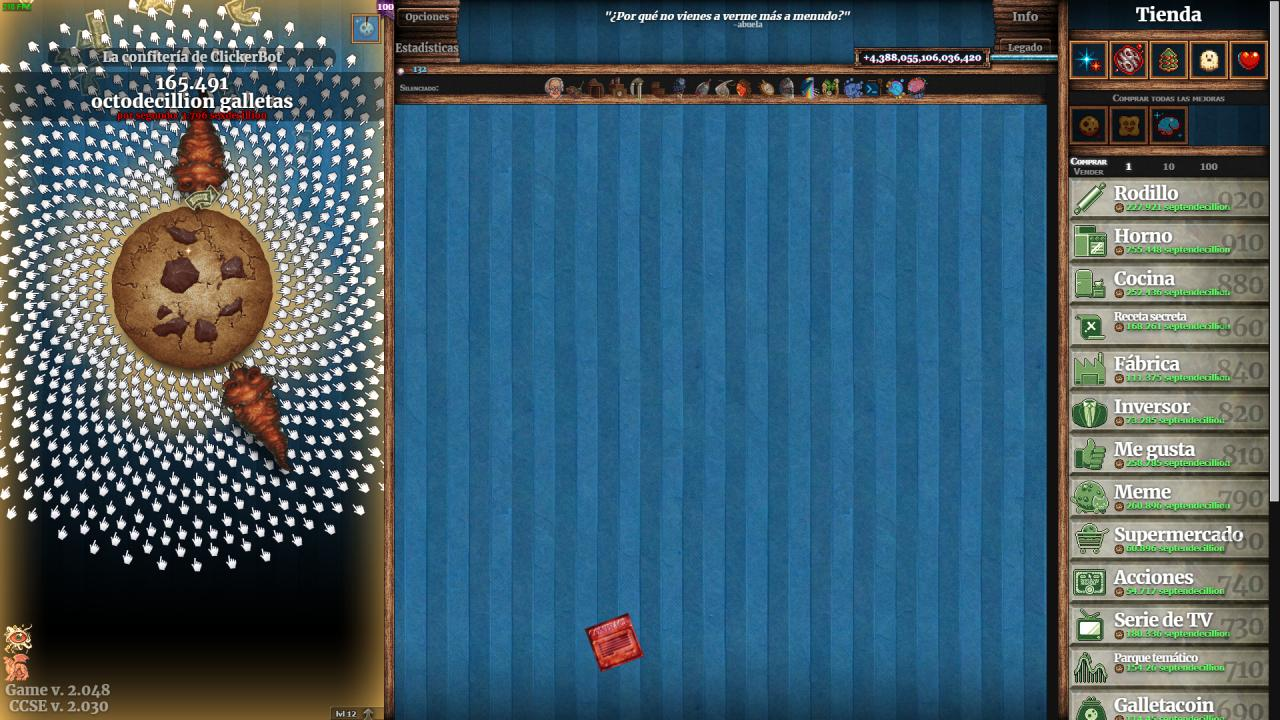RedCartridge: (584, 613, 644, 674)
